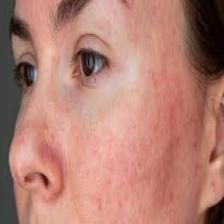Sensitif: (13, 0, 201, 222)
